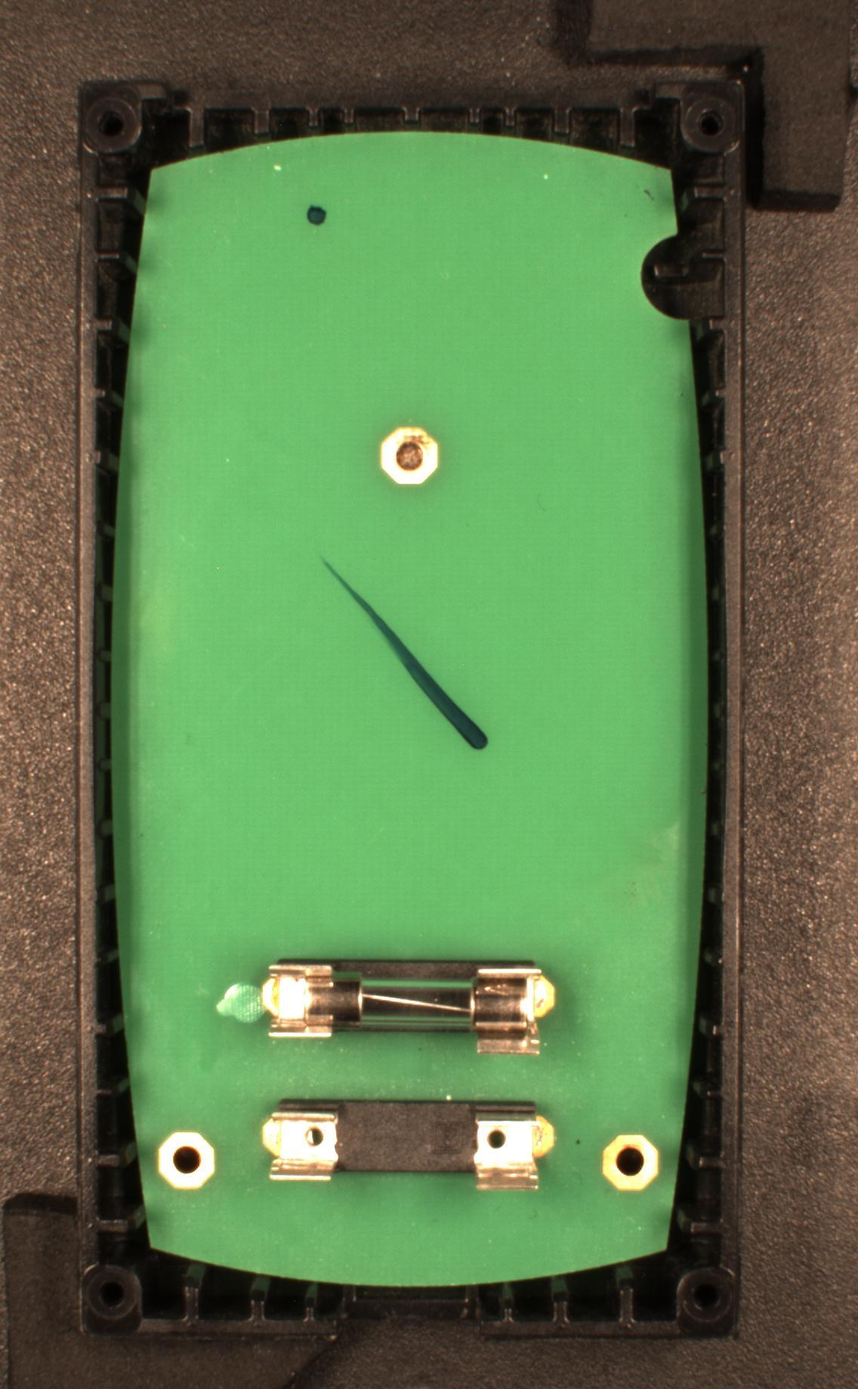Linijsko Ostecene: (318, 556, 491, 753)
Nepostojanje osiguraca: (259, 1097, 559, 1193)
Tockasto Ostecenje: (306, 204, 327, 226)
